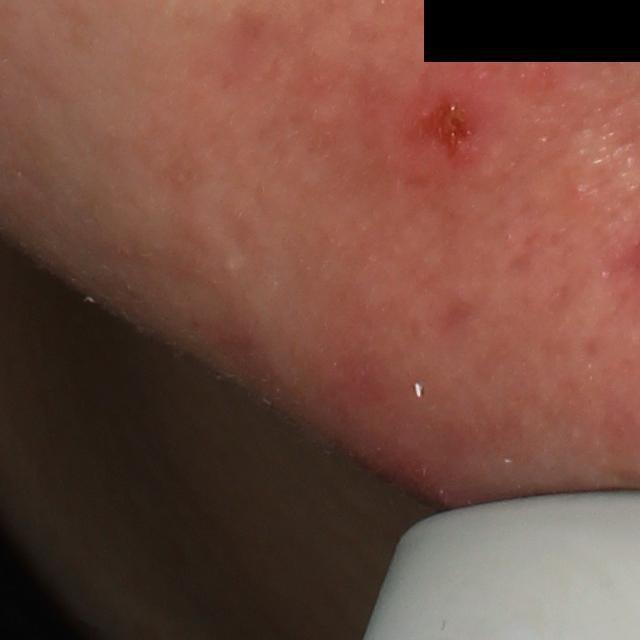papule: (399, 70, 513, 190)
